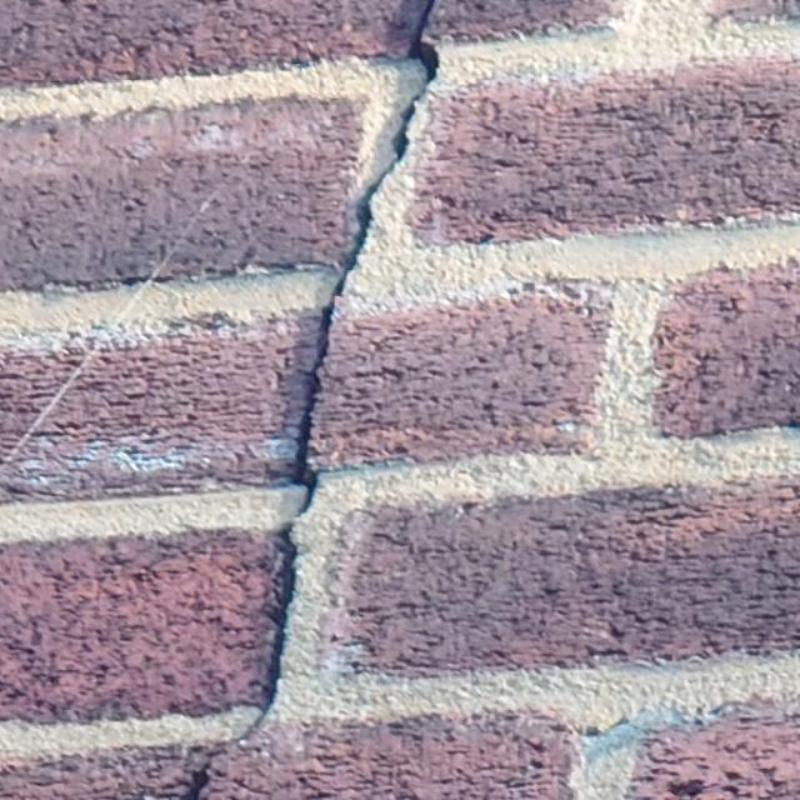crack: (341, 91, 424, 270), (294, 273, 346, 514), (185, 712, 266, 799), (262, 525, 298, 710), (406, 38, 439, 85), (412, 0, 439, 41)
